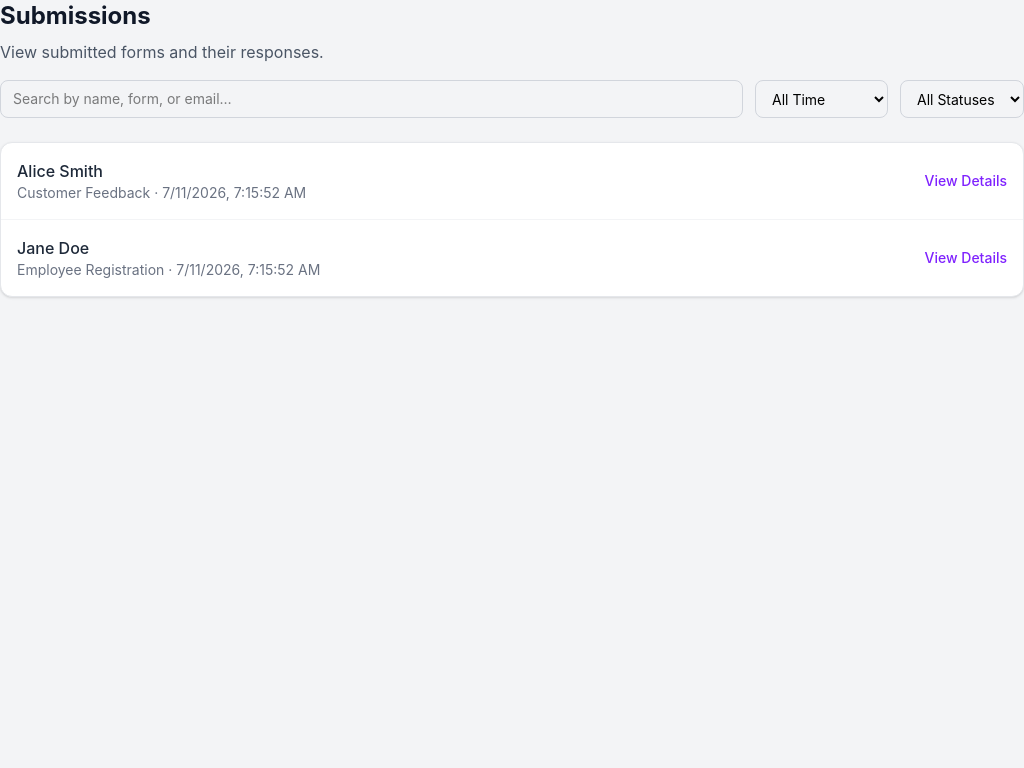
Test case: Submissions page › opens a detail modal showing the full response
Click the button "View Details" in the row of "Employee Registration". click: x=966, y=258
box: [924,248,1007,268]
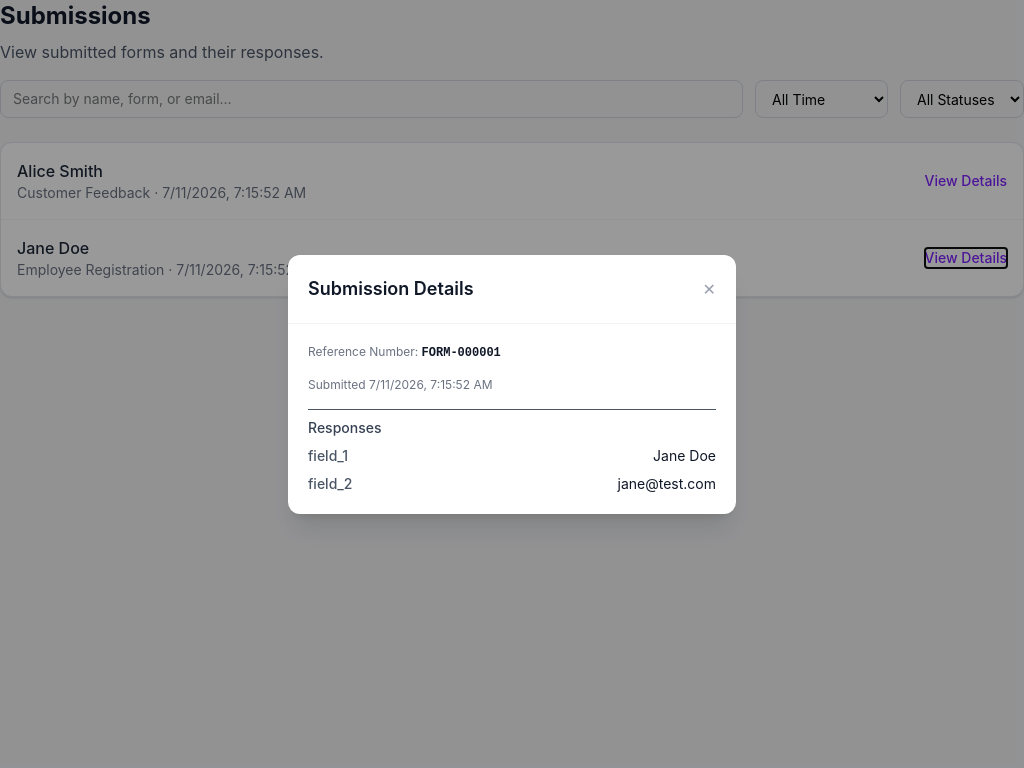
expect the heading "Submission Details" is shown: met, box [308,274,474,302]
expect the text "jane@test.com" is shown: met, box [618,474,716,494]
expect the text "FORM-000001" is shown: met, box [422,346,501,360]
